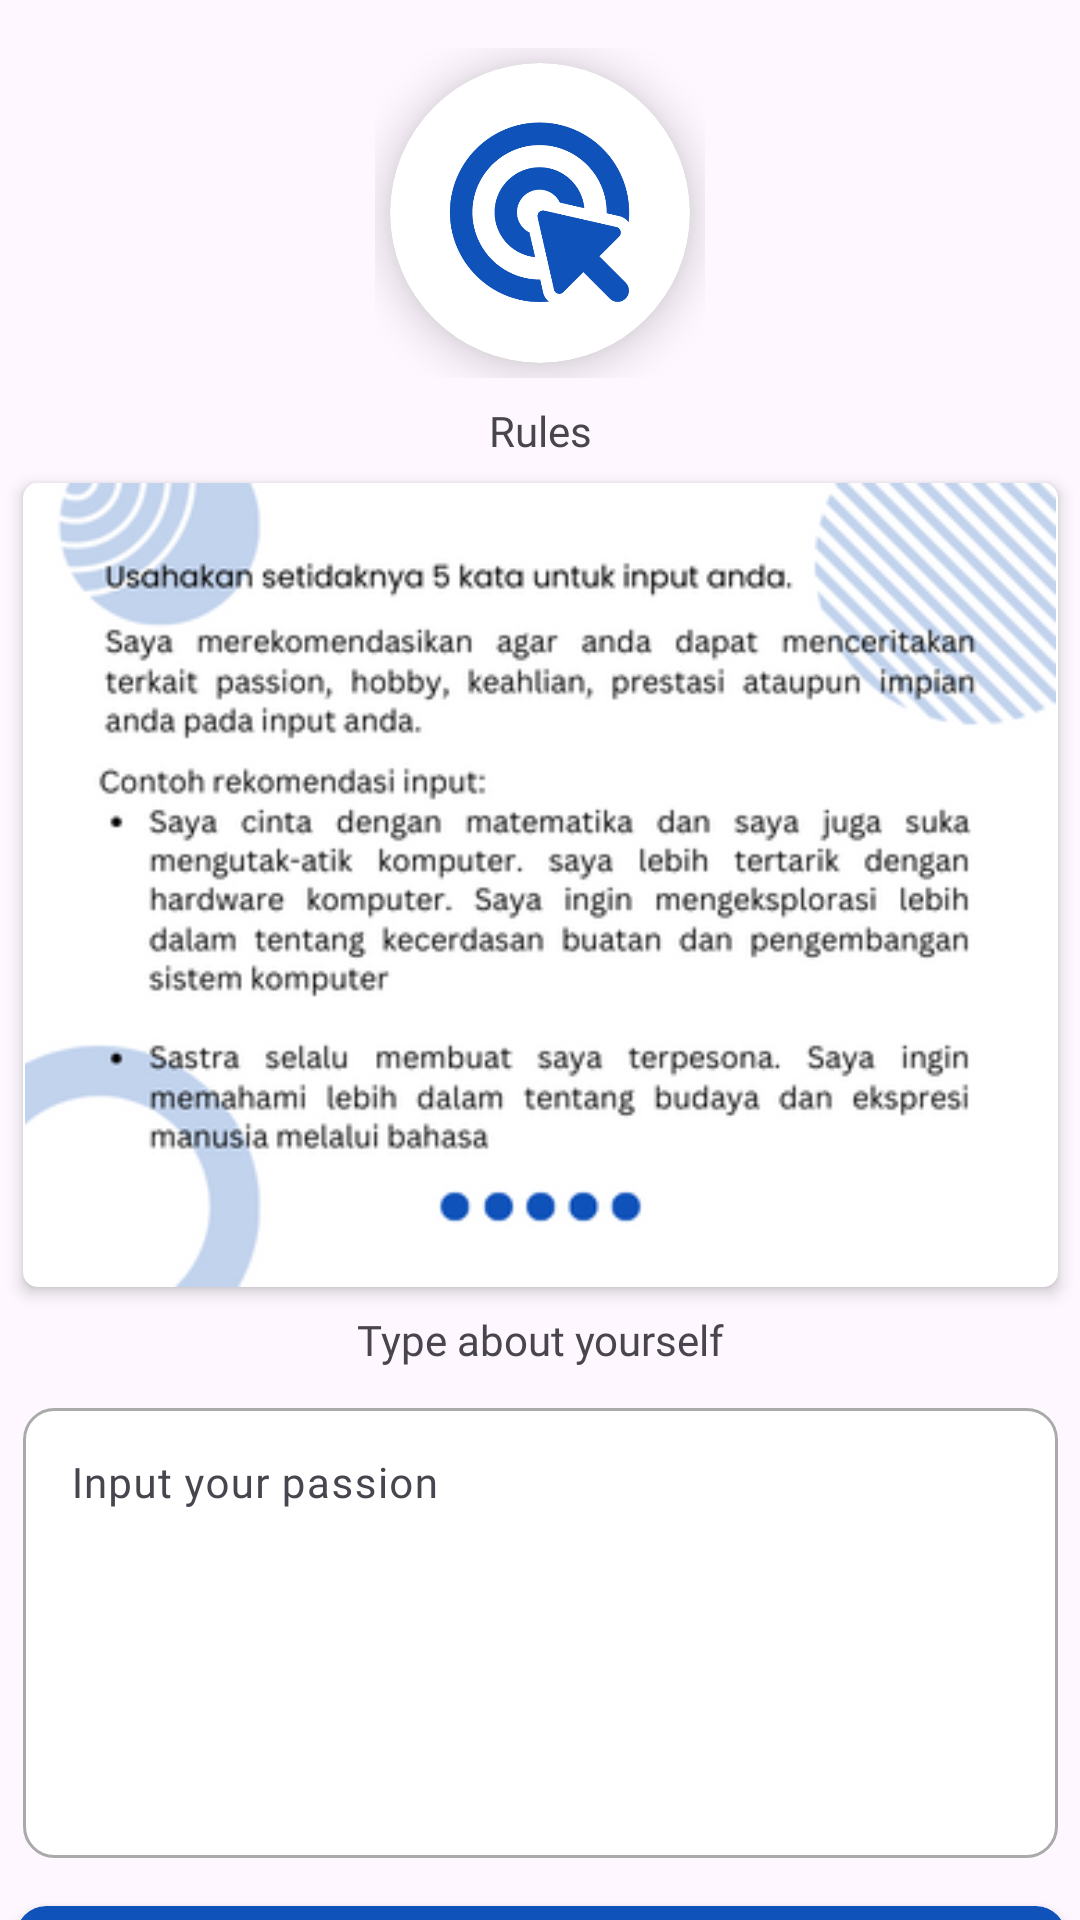

Point at icon controls on the screen. Image size 1080px x 1920px, points as (x,y).
pathgoals: (539,212)
